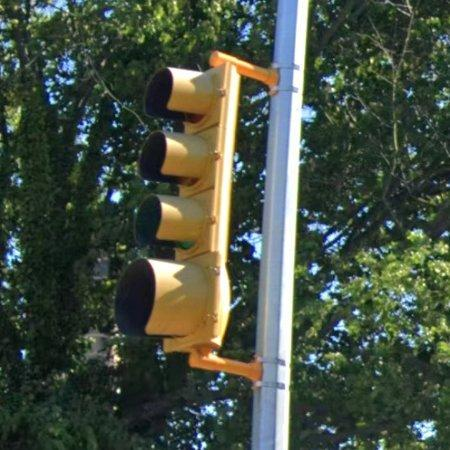traffic lights: (112, 59, 241, 360)
